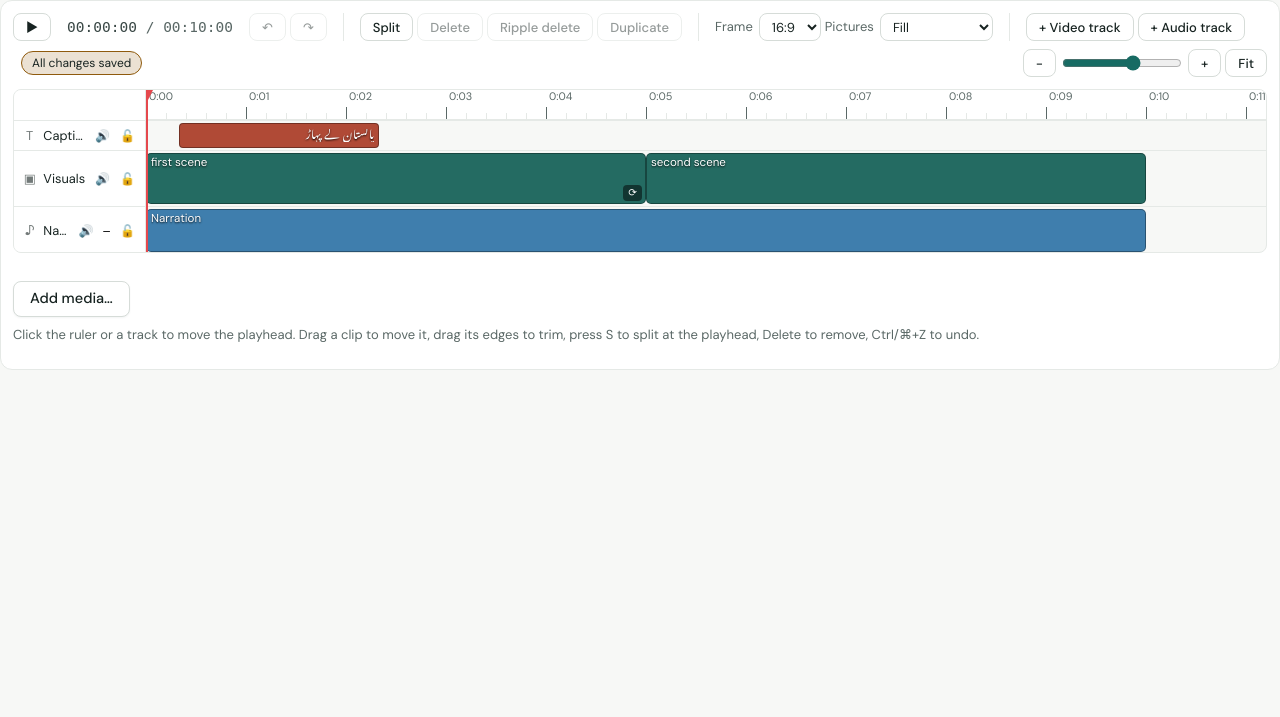
Scenario: Timeline editing › deleting needs a selection; a locked track cannot be edited and says why
The image size is (1280, 717).
Expected: the element named "Timeline" is shown, [0,0,1279,370]
Expected: the button "Delete" is disabled, [417,13,483,41]
Click the button named "Lock Visuals" at coordinates (128, 178), box [118,172,137,186]
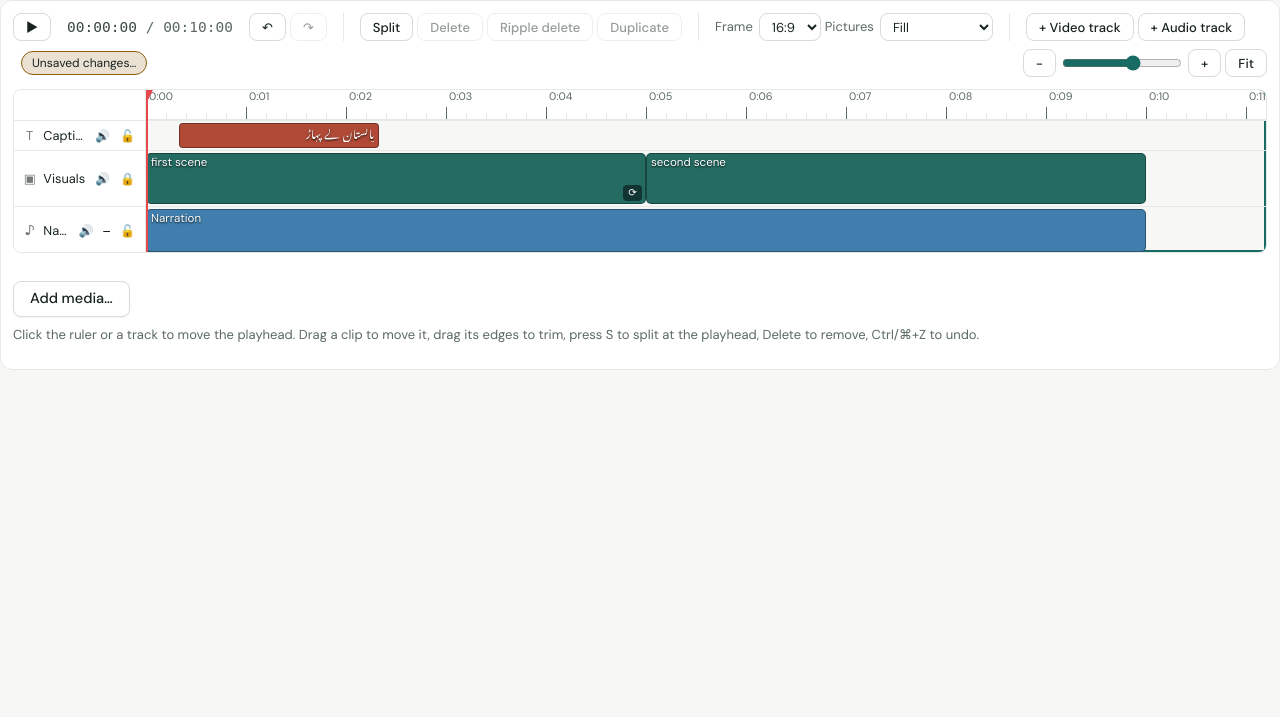
Press the mouse on the button "first scene ⟳" at coordinates (396, 178), box [146,153,646,204]
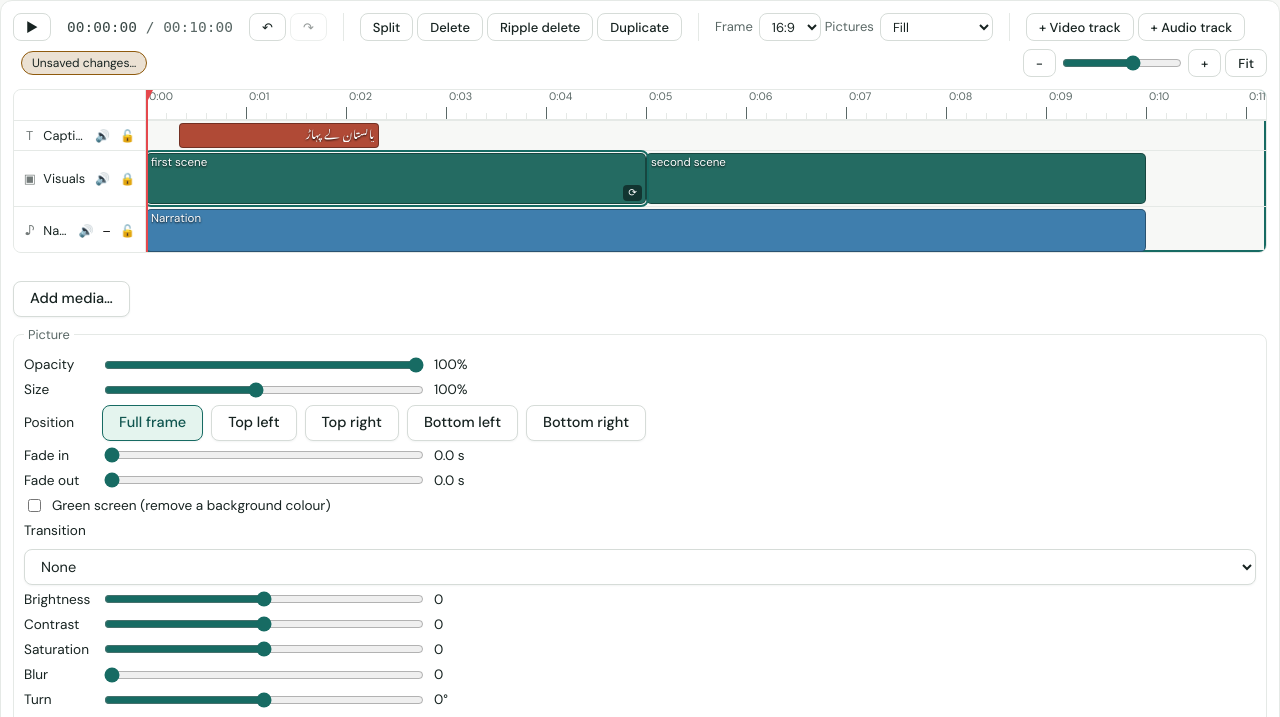
Press Delete
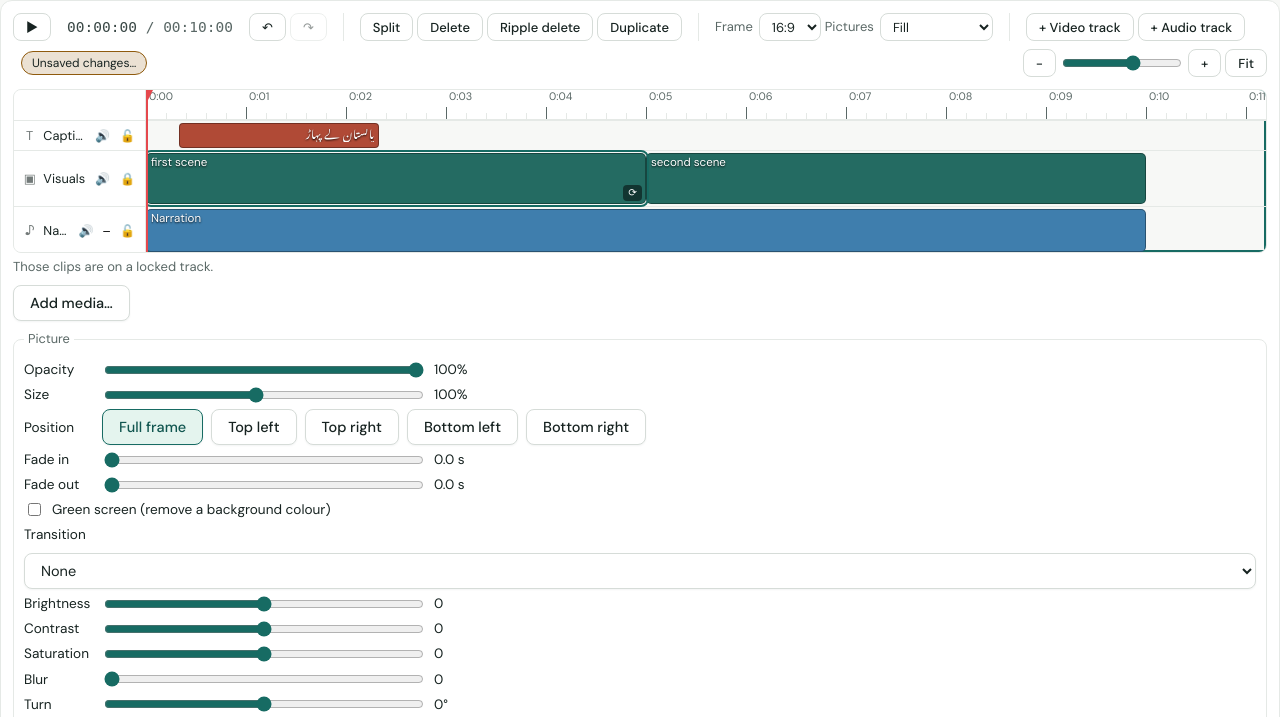
Now the text "Those clips are on a locked track." is shown, box [13,258,213,275]
